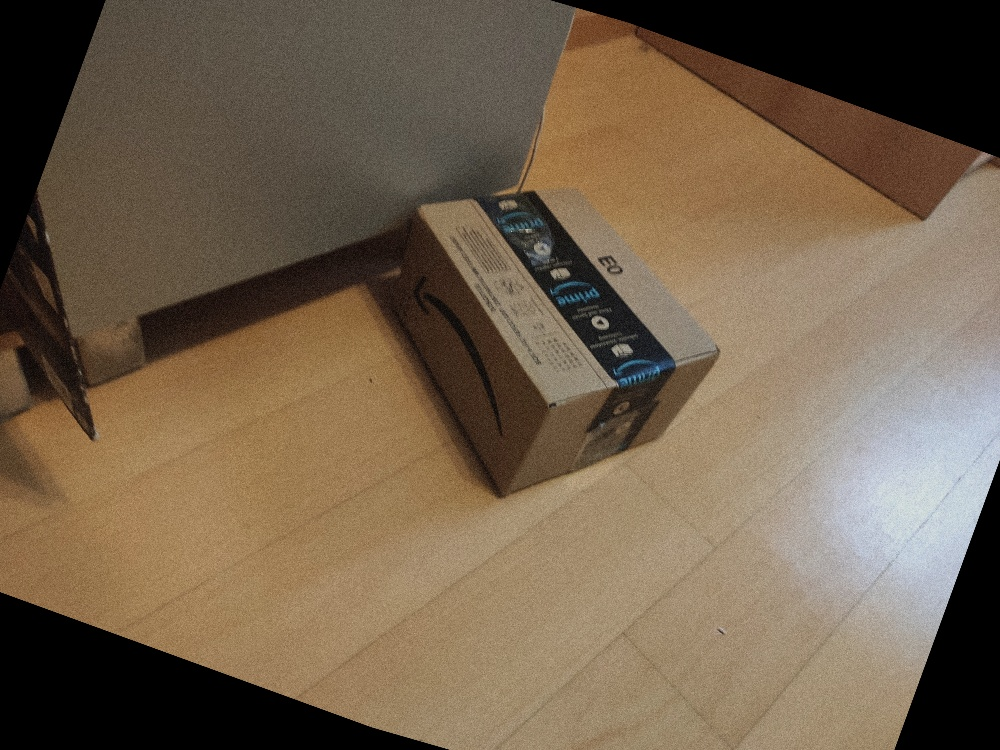good-parcel: (396, 185, 733, 507)
